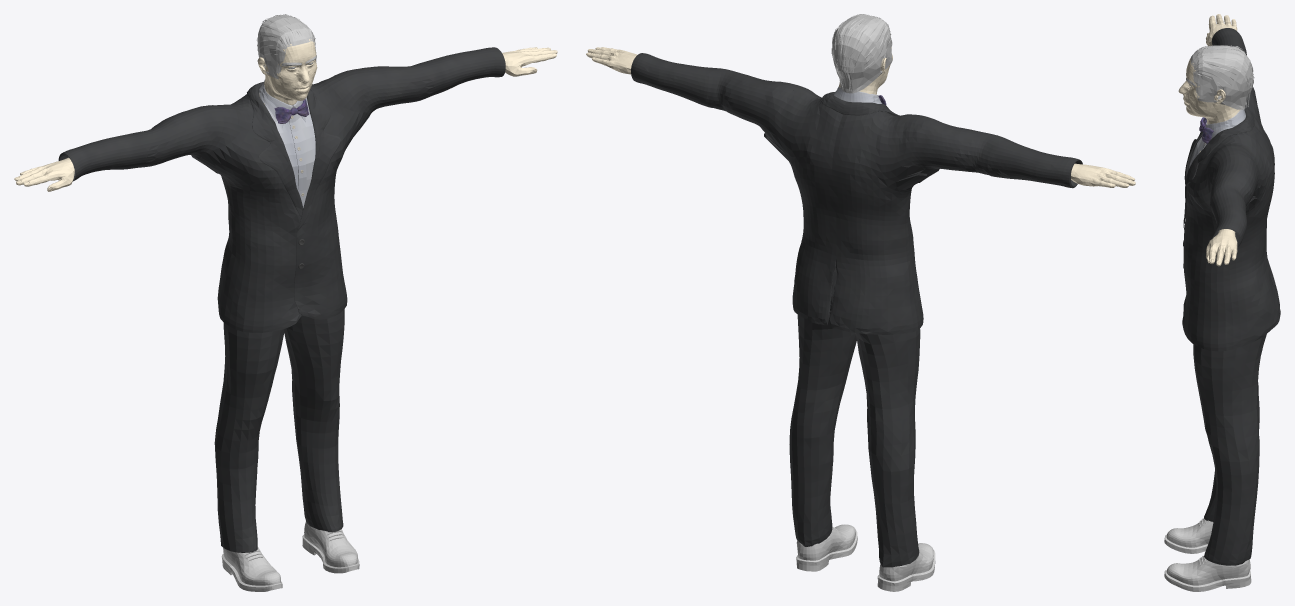
Rendered from Torvald mit Anzug.obj.
The picture shows the model from 3 angles, left to right: view 1: azimuth 30°, elevation 25°; view 2: azimuth 150°, elevation 25°; view 3: azimuth 270°, elevation 25°; orthographic projection. The views are drawn at different scales.
Parts seen in each view (by area): view 1: jacket_bowtie_pants.obj, base.obj, shoes03.obj, short04.obj; view 2: jacket_bowtie_pants.obj, short04.obj, shoes03.obj, base.obj; view 3: jacket_bowtie_pants.obj, shoes03.obj, short04.obj, base.obj.
Part boxes in pixels (x1,y1,x2,y2): jacket_bowtie_pants.obj: (58, 47, 505, 552); base.obj: (14, 39, 557, 191); shoes03.obj: (221, 521, 359, 591); short04.obj: (256, 14, 316, 78); jacket_bowtie_pants.obj: (631, 53, 1082, 567); short04.obj: (831, 14, 892, 93); shoes03.obj: (796, 524, 935, 591); base.obj: (586, 47, 1135, 187); jacket_bowtie_pants.obj: (1182, 28, 1280, 565); shoes03.obj: (1164, 518, 1251, 591); short04.obj: (1190, 45, 1254, 109); base.obj: (1178, 14, 1240, 266).
Bounding box in the file's own units: 18.33 × 17.63 × 3.6.
